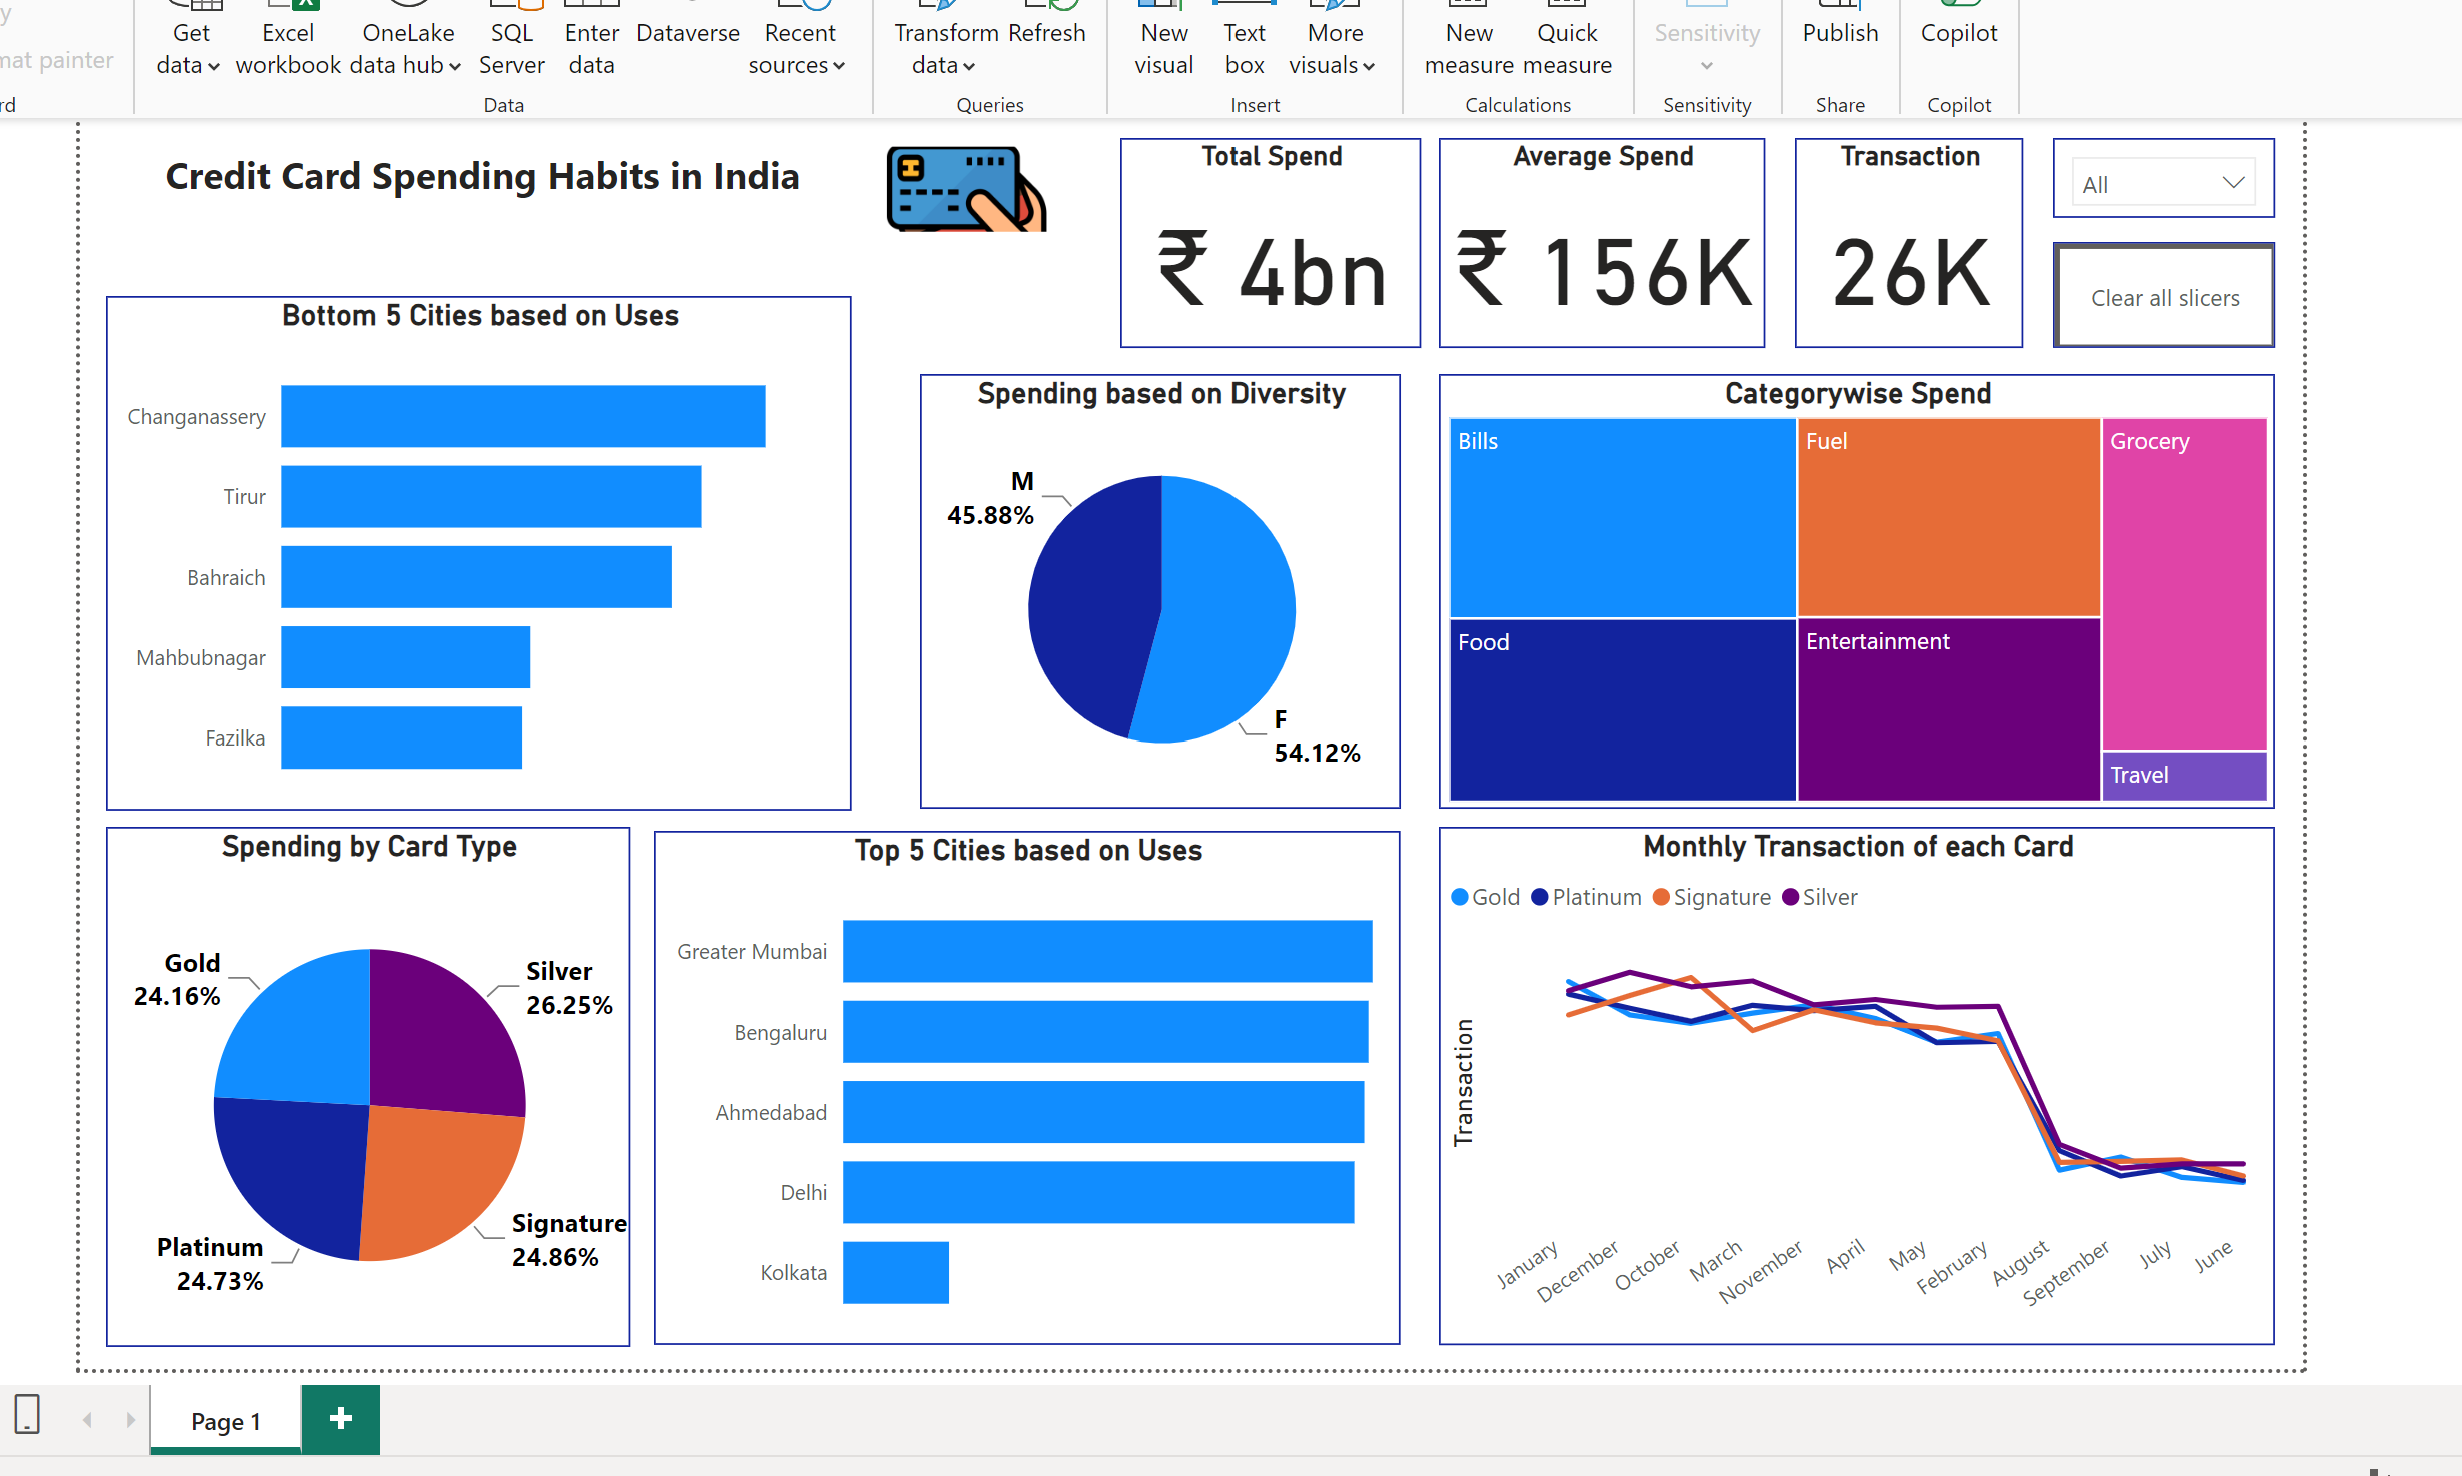

The dashboard page shown, as its layout file describes it:
{"tool":"powerbi","page":{"name":"Page 1","canvas":[1280,720],"ordinal":0},"visuals":[{"type":"pieChart","title":"Spending based on Diversity","fields":{"Category":["Dim_Gender.Gender"],"Y":["Sum(Fact_Table.Amount)"]},"box":[483.8,147.5,276.5,250],"z":0},{"type":"slicer","title":"Year","fields":{"Values":["Fact_Table.Year"]},"box":[1135.9,11.5,127.9,46.1],"z":1000},{"type":"pieChart","title":"Spending by Card Type","fields":{"Category":["Dim_Card_Type.Card_Type"],"Y":["Sum(Fact_Table.Amount)"]},"box":[15,407.8,301.8,299.5],"z":2000},{"type":"treemap","title":"Categorywise Spend","fields":{"Values":["Calculation.Total_Spend"],"Group":["Dim_Expense_Type.Exp_Type"]},"box":[782.2,147.5,481.5,250],"z":3000},{"type":"barChart","title":"Top 5 Cities based on Uses","fields":{"Category":["Dim_City.City"],"Y":["Calculation.Total_Spend"]},"box":[330.6,410.1,429.7,296.1],"z":4000},{"type":"card","title":"Total Spend","fields":{"Values":["Calculation.Total_Spend"]},"box":[599,11.5,172.8,121],"z":5000},{"type":"card","title":"Average Spend","fields":{"Values":["Calculation.Average_Spend"]},"box":[782.2,11.5,187.8,121],"z":6000},{"type":"card","title":"Transaction","fields":{"Values":["Calculation.Transaction"]},"box":[987.3,11.5,131.3,121],"z":7000},{"type":"textbox","box":[15,12.7,434.3,58.8],"z":8000},{"type":"image","box":[449.3,11.5,127.9,58.8],"z":9000},{"type":"lineChart","title":"Monthly Transaction of each Card","fields":{"Category":["Fact_Table.Month"],"Y":["Calculation.Transaction"],"Series":["Dim_Card_Type.Card_Type"]},"box":[782.2,407.8,481.5,298.4],"z":10000},{"type":"actionButton","box":[1135.9,71.4,127.9,61.1],"z":11000},{"type":"barChart","title":"Bottom 5 Cities based on Uses","fields":{"Category":["Dim_City.City"],"Y":["Calculation.Total_Spend"]},"box":[15.3,102,429.6,295.8],"z":12000}]}

Visuals, with their boxes on the page's 1280x720 design canvas (x1, y1, x2, y2). These are canvas units, not pixel positions in the 2462x1476 screenshot, which may show the page scaled, cropped or inside an application window:
"Spending based on Diversity" pieChart: detection(484, 148, 760, 398)
"Year" slicer: detection(1136, 12, 1264, 58)
"Spending by Card Type" pieChart: detection(15, 408, 317, 707)
"Categorywise Spend" treemap: detection(782, 148, 1264, 398)
"Top 5 Cities based on Uses" barChart: detection(331, 410, 760, 706)
"Total Spend" card: detection(599, 12, 772, 132)
"Average Spend" card: detection(782, 12, 970, 132)
"Transaction" card: detection(987, 12, 1119, 132)
textbox: detection(15, 13, 449, 72)
image: detection(449, 12, 577, 70)
"Monthly Transaction of each Card" lineChart: detection(782, 408, 1264, 706)
actionButton: detection(1136, 71, 1264, 132)
"Bottom 5 Cities based on Uses" barChart: detection(15, 102, 445, 398)
